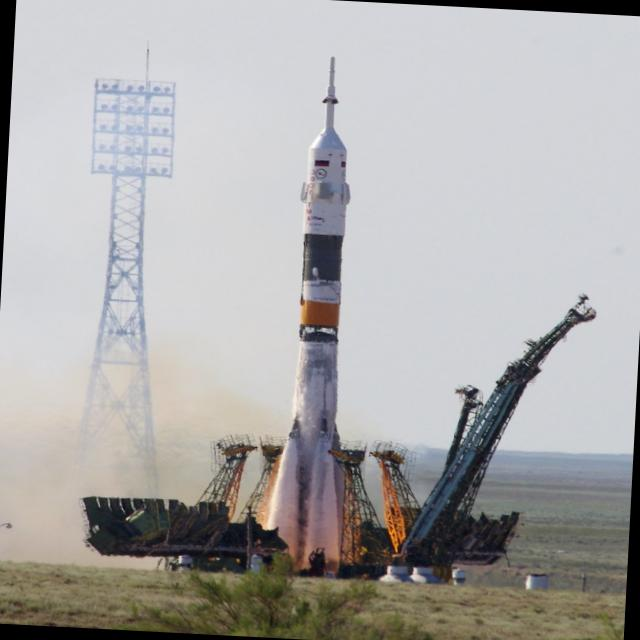rocket: (275, 52, 384, 588)
